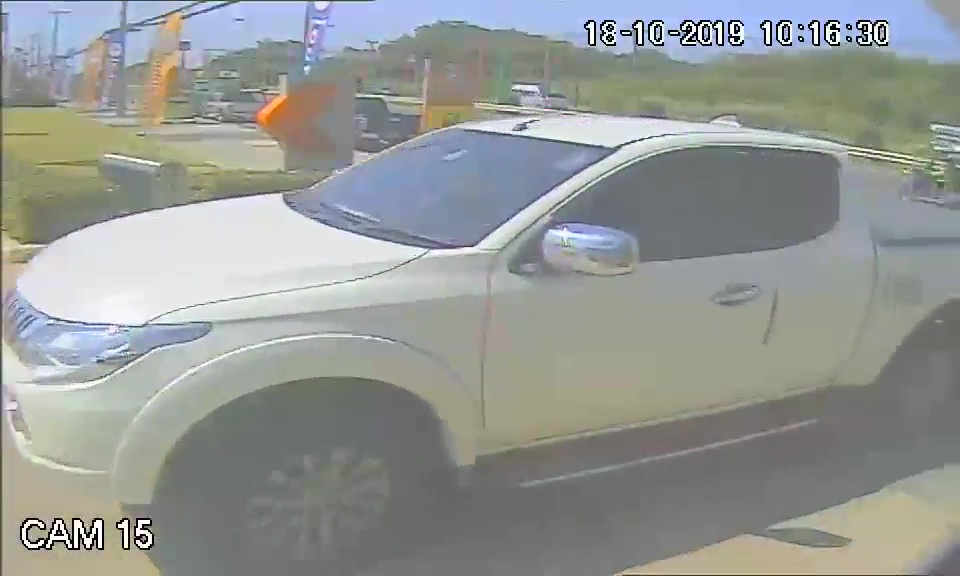pickup: (2, 113, 885, 502)
